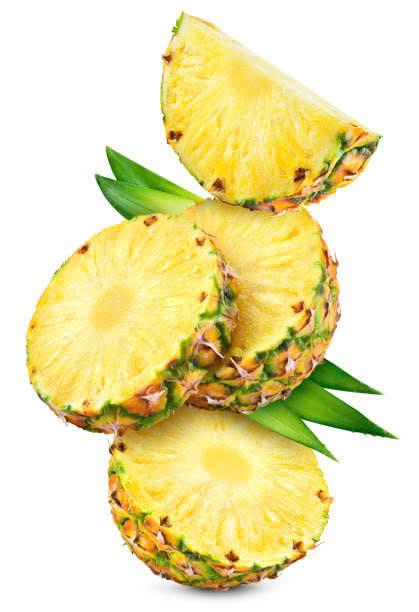pineapple: (71, 414, 382, 593), (143, 29, 401, 214), (194, 187, 391, 406), (19, 221, 234, 417)
